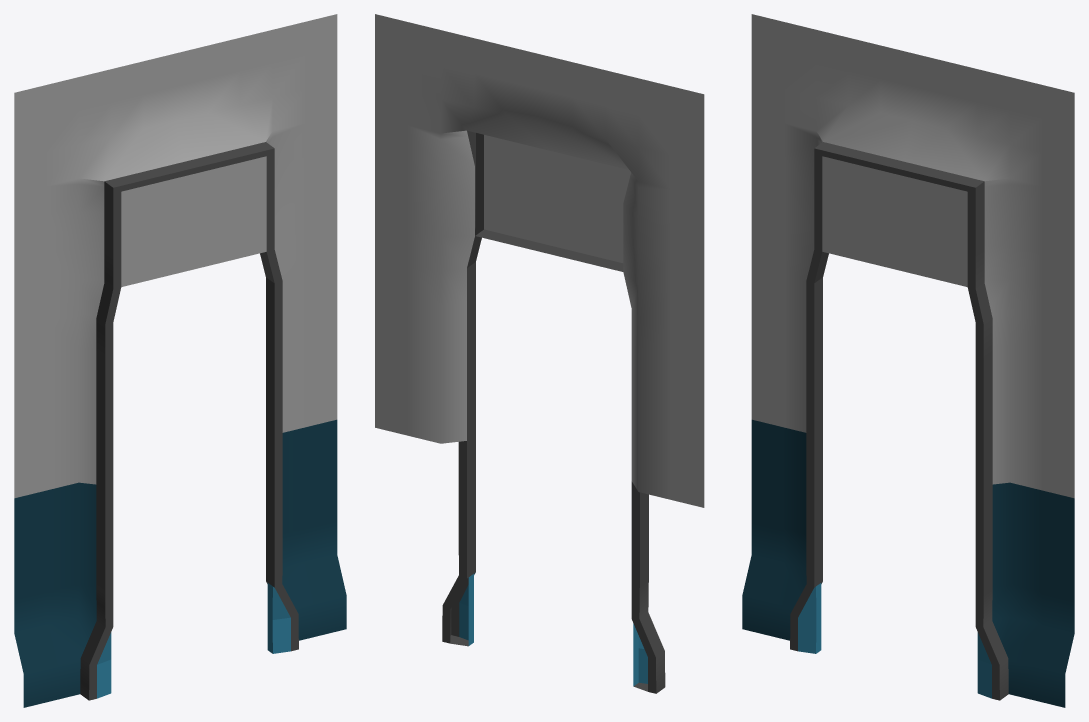
File: EntrerPorte.fbx
3 views of the same model, side by side, from view 1: azimuth 30°, elevation 25°; view 2: azimuth 150°, elevation 25°; view 3: azimuth 330°, elevation 25° (orthographic). The views are drawn at different scales.
Visible parts, largest first — view 1: polySurface624; view 2: polySurface624; view 3: polySurface624.
Boxes of the visible parts, x1,y1,x2,y2 form: polySurface624: [14, 14, 346, 707]; polySurface624: [375, 14, 704, 693]; polySurface624: [742, 14, 1074, 707].
Size of the model in its own units: 200 by 360 by 19.48.
